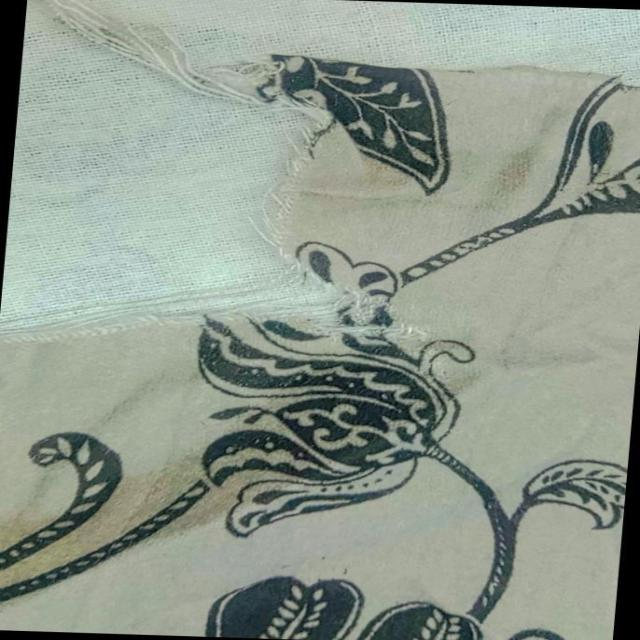cut: (72, 221, 410, 340), (176, 33, 393, 214)
